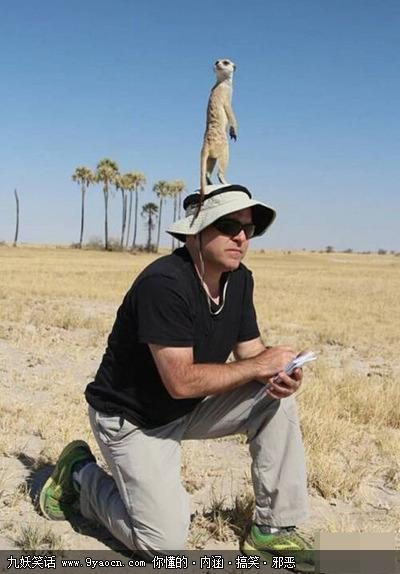other: (40, 143, 344, 568)
